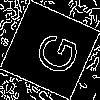G: (24, 25, 82, 79)
